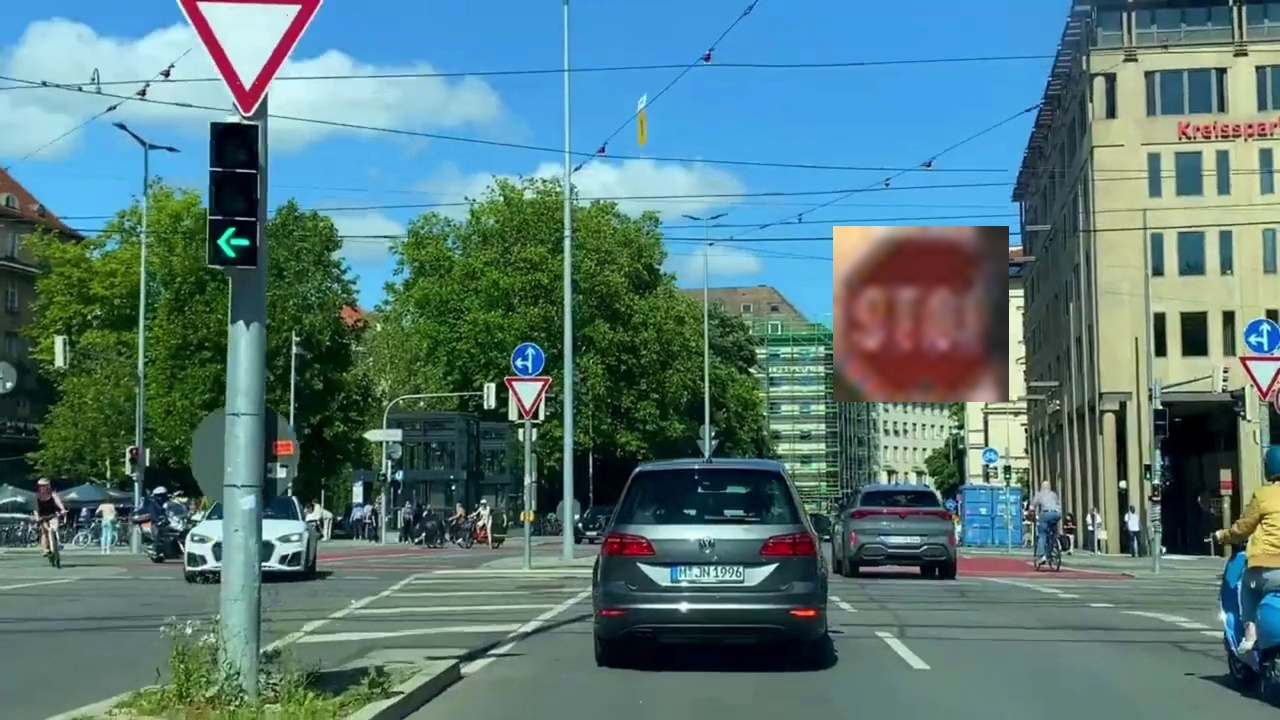Stop: (833, 226, 1009, 402)
